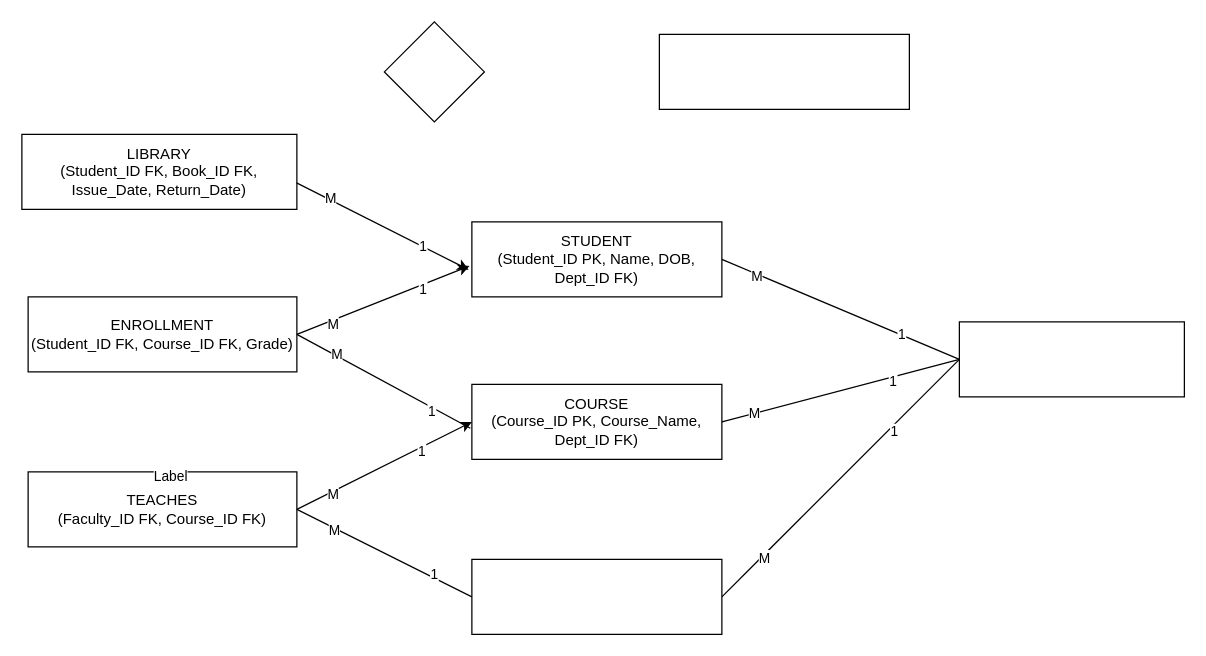
The diagram is 1206 pixels wide and 656 high, and some of its shapes have lost their labels. Each missing label, with the centre of its shape:
"BOOK (Book_ID PK, Title, Author)" goes at point (783, 71).
"DEPARTMENT (Dept_ID PK, Dept_Name)" goes at point (1071, 359).
"FACULTY (Faculty_ID PK, Name, Dept_ID FK)" goes at point (596, 596).
